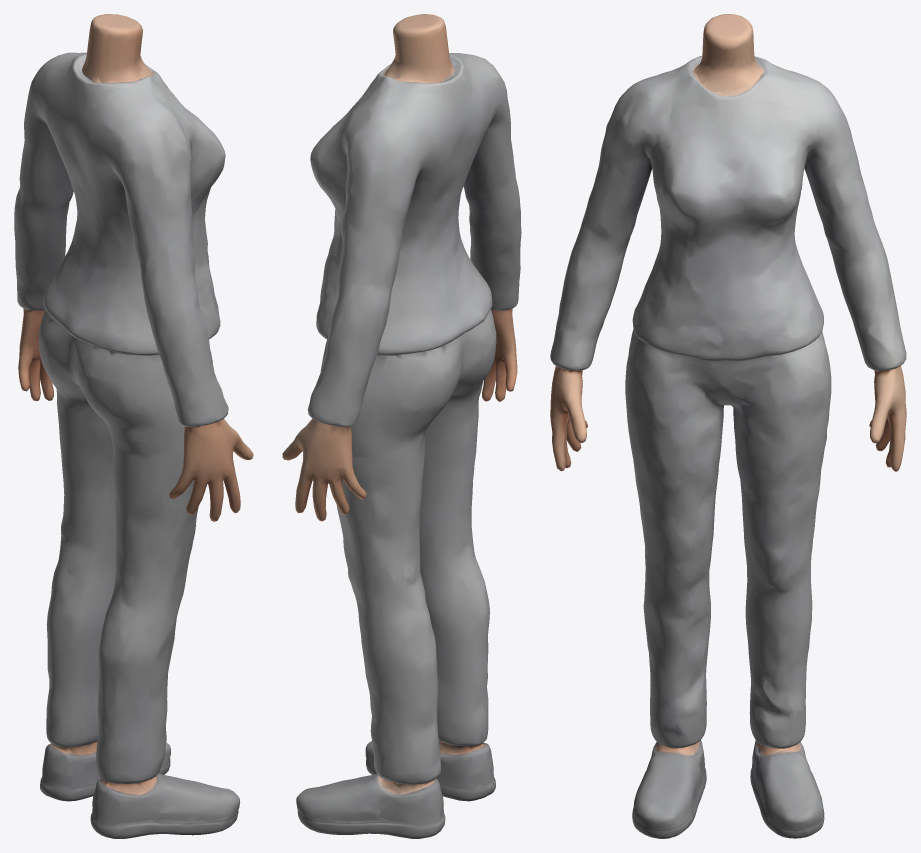
The model's file is body_woman.glb.
The picture shows the model from 3 angles, left to right: view 1: azimuth 30°, elevation 25°; view 2: azimuth 150°, elevation 25°; view 3: azimuth 270°, elevation 25°; orthographic projection.
Visible parts, largest first — view 1: tripo_node_d5c59052-9625-4dcc-b492-c1a41aaccf94; view 2: tripo_node_d5c59052-9625-4dcc-b492-c1a41aaccf94; view 3: tripo_node_d5c59052-9625-4dcc-b492-c1a41aaccf94.
Part boxes in pixels (box(x1,y1,x2,y2)): tripo_node_d5c59052-9625-4dcc-b492-c1a41aaccf94: box(14, 14, 253, 838); tripo_node_d5c59052-9625-4dcc-b492-c1a41aaccf94: box(282, 14, 521, 838); tripo_node_d5c59052-9625-4dcc-b492-c1a41aaccf94: box(550, 14, 906, 838).
Bounding box in the file's own units: 0.1863 × 1 × 0.4149.
1 material, 1 textured.
